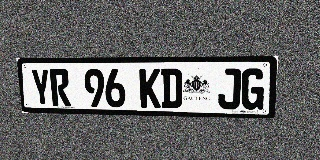6: (104, 69, 126, 107)
9: (84, 69, 105, 107)
D: (161, 69, 182, 108)
G: (241, 68, 265, 110)
J: (218, 68, 241, 109)
K: (139, 69, 161, 108)
R: (49, 69, 71, 106)
Y: (30, 69, 52, 106)
